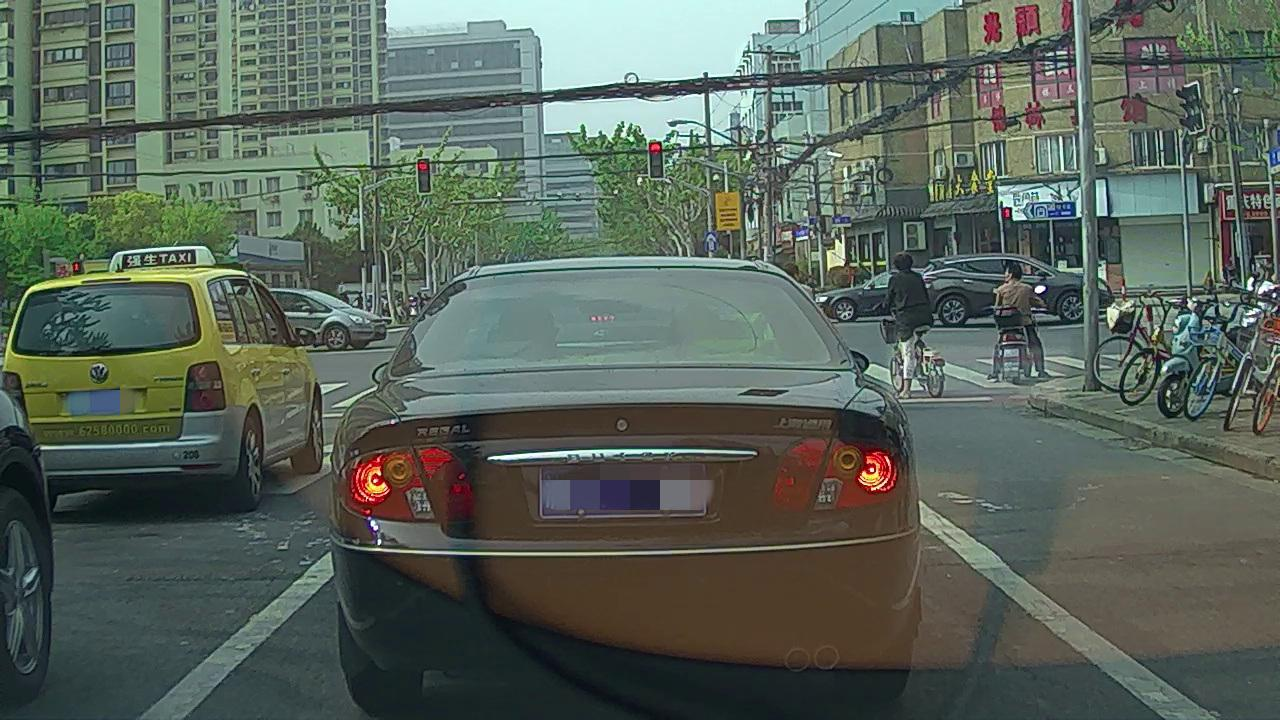traffic_light: (648, 141, 664, 178), (416, 158, 431, 192)
